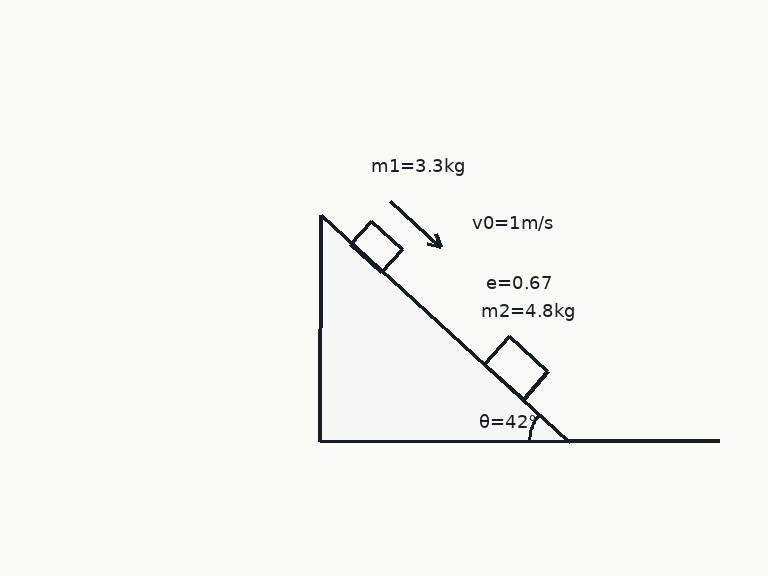block: (482, 335, 549, 401), (348, 219, 404, 274)
ramp: (317, 214, 571, 443)
